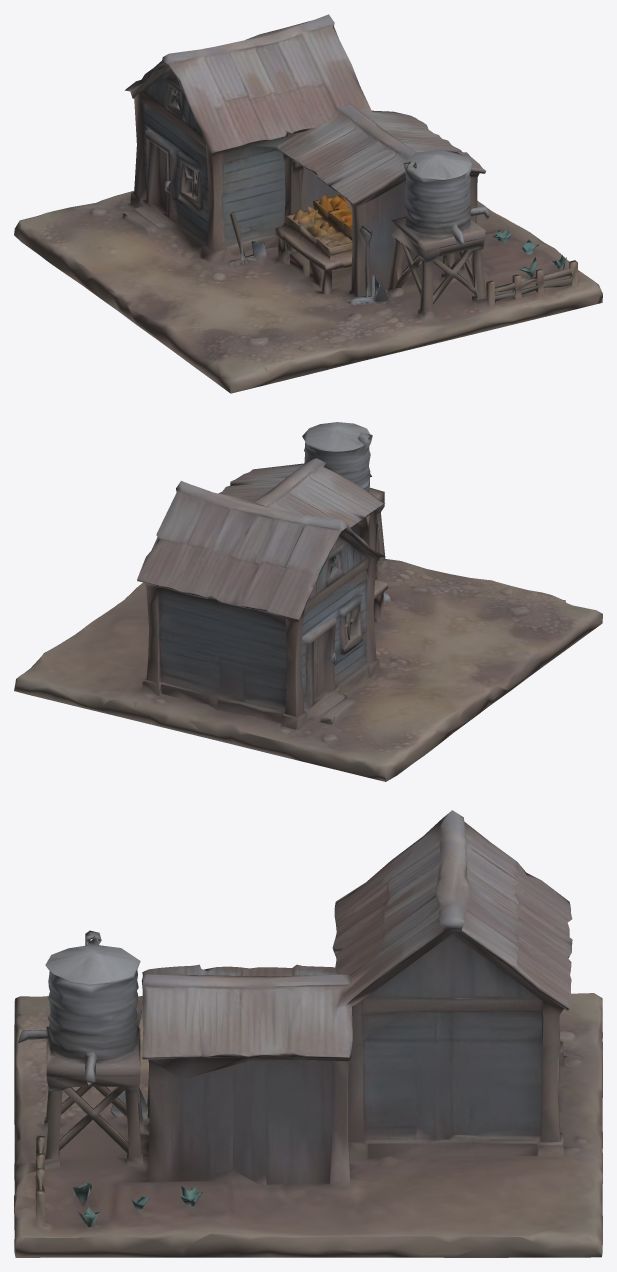
File: farm_main.glb
3 renders of one model, top to bottom at view 1: azimuth 30°, elevation 25°; view 2: azimuth 150°, elevation 25°; view 3: azimuth 270°, elevation 25°, orthographic. The views are drawn at different scales.
Parts seen in each view (by area): view 1: tripo_node_801be5ad-f10d-4d44-90ae-c08eb4bbd88c; view 2: tripo_node_801be5ad-f10d-4d44-90ae-c08eb4bbd88c; view 3: tripo_node_801be5ad-f10d-4d44-90ae-c08eb4bbd88c.
Part boxes in pixels (x1,y1,x2,y2): tripo_node_801be5ad-f10d-4d44-90ae-c08eb4bbd88c: [14, 14, 602, 393]; tripo_node_801be5ad-f10d-4d44-90ae-c08eb4bbd88c: [14, 422, 602, 781]; tripo_node_801be5ad-f10d-4d44-90ae-c08eb4bbd88c: [14, 810, 602, 1257].
Size of the model in its own units: 1 by 0.5011 by 0.9978.
1 material, 1 textured.
